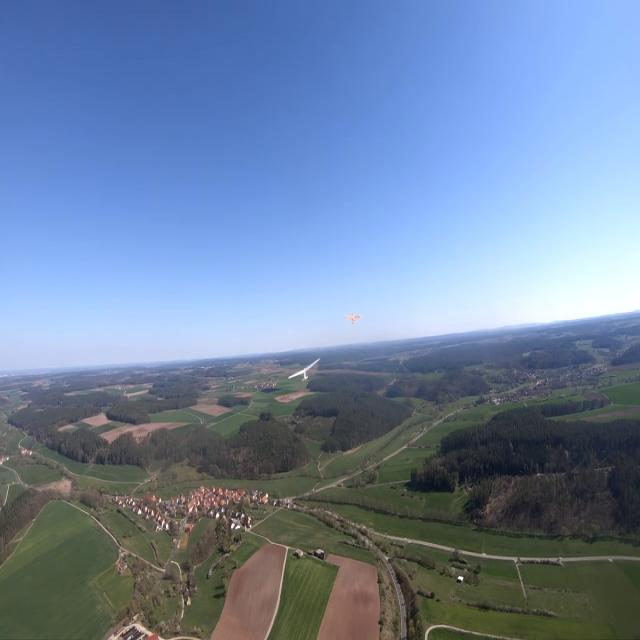iha: (289, 355, 321, 382), (345, 310, 363, 326)
